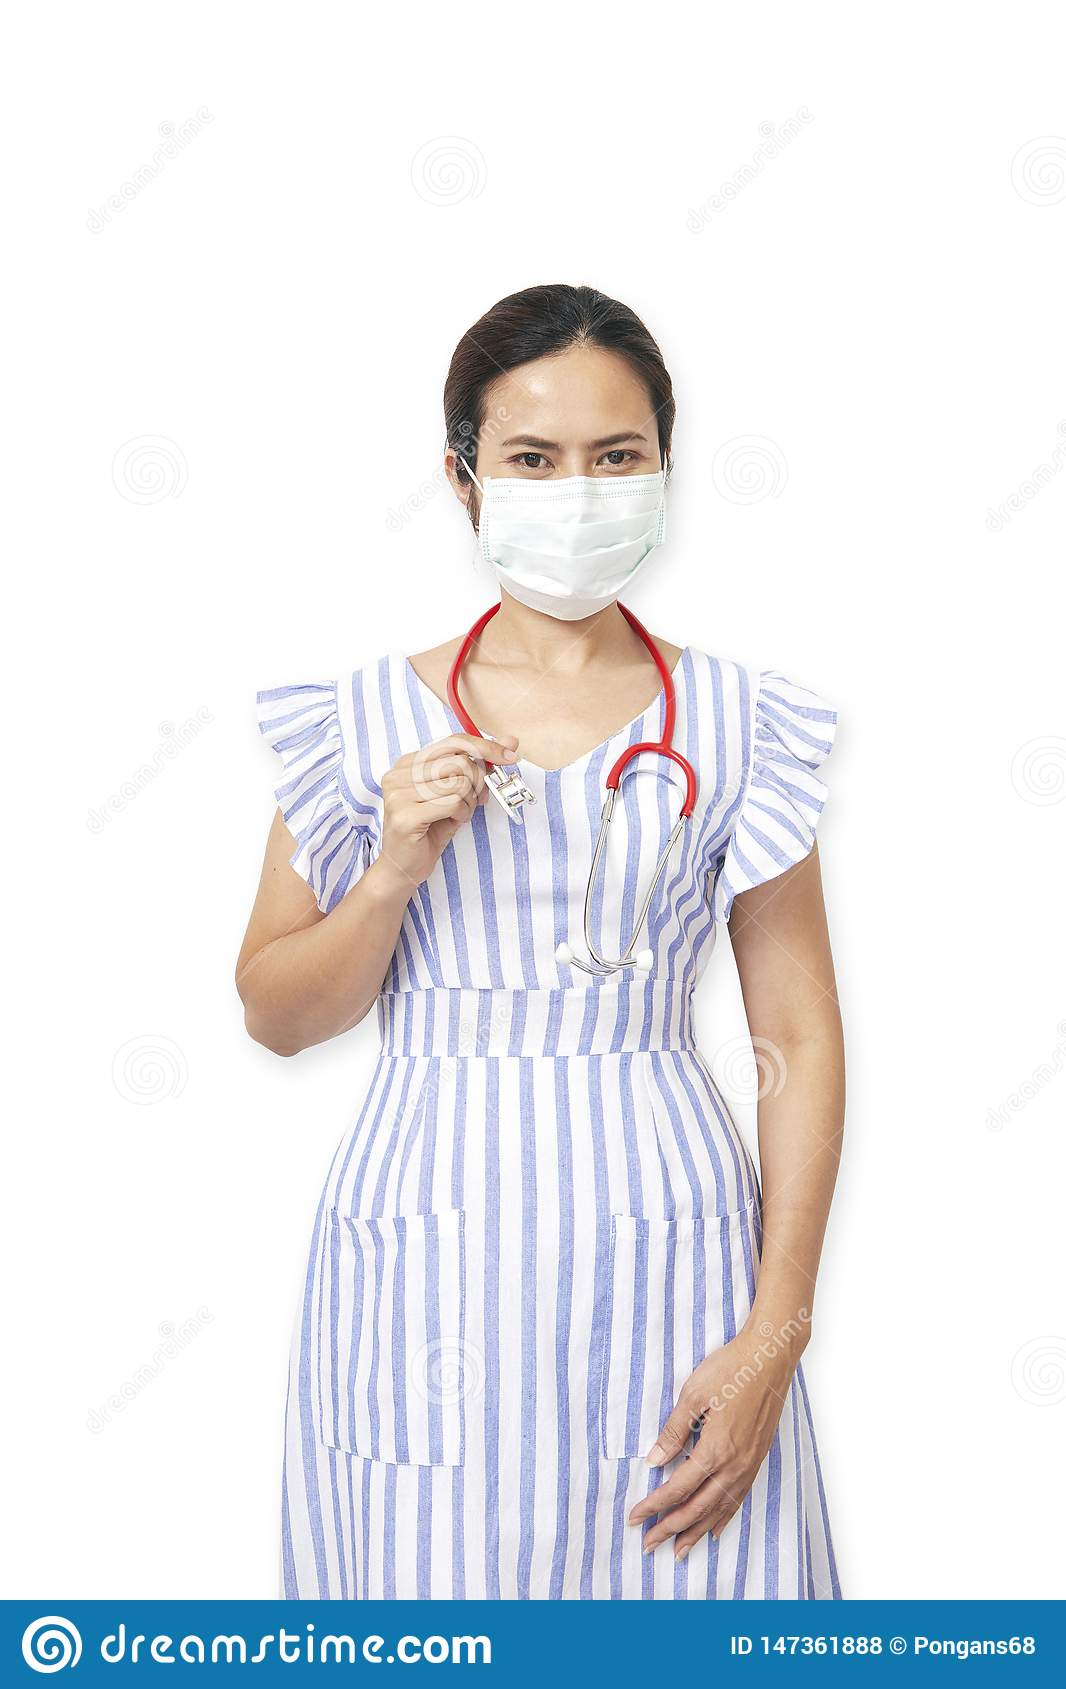mask: (475, 454, 680, 635)
